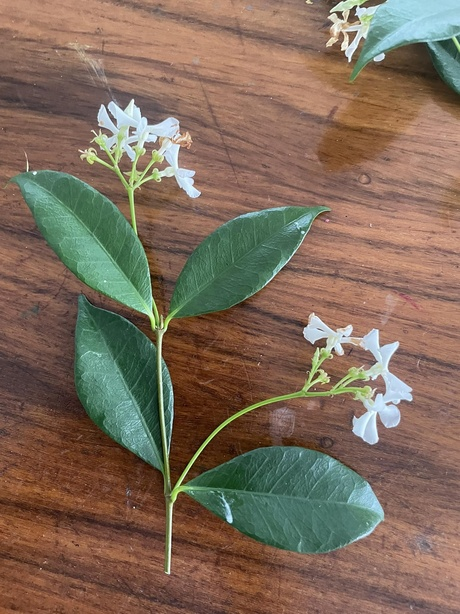leaf: (183, 432, 384, 552), (14, 165, 164, 323), (68, 292, 183, 488), (167, 201, 328, 326)
